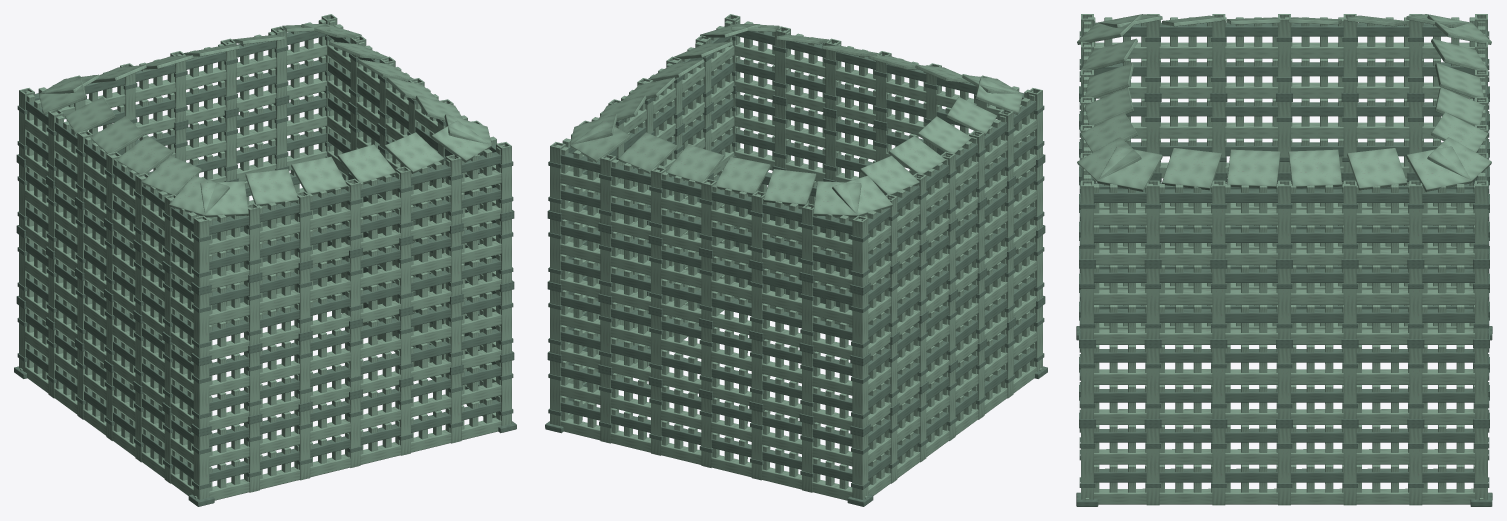
3 renders of one model, left to right at view 1: azimuth 30°, elevation 25°; view 2: azimuth 150°, elevation 25°; view 3: azimuth 270°, elevation 25°, orthographic. The views are drawn at different scales.
Visible parts, largest first — view 1: Crown alloy petal 0-1, Crown alloy petal 0-2, Crown alloy petal 0-3, Crown alloy petal 0-4, Crown alloy petal 3-4, Crown alloy petal 0-0, Crown alloy petal 3-3, Crown alloy petal 3-5, Crown alloy petal 0-5, Crown alloy petal 3-2, Crown alloy petal 3-1, Tier 3 side 0 post 0 (+36 smaller); view 2: Crown alloy petal 2-4, Crown alloy petal 2-3, Crown alloy petal 2-2, Crown alloy petal 2-1, Crown alloy petal 3-1, Crown alloy petal 2-5, Crown alloy petal 3-2, Crown alloy petal 3-0, Crown alloy petal 2-0, Crown alloy petal 3-3, Crown alloy petal 3-4, Tier 3 side 3 post 0 (+36 smaller); view 3: Crown alloy petal 1-4, Crown alloy petal 1-1, Crown alloy petal 1-2, Crown alloy petal 1-3, Crown alloy petal 1-5, Crown alloy petal 1-0, Crown alloy petal 0-5, Crown alloy petal 2-0, Crown alloy petal 2-1, Crown alloy petal 0-4, Crown alloy petal 2-2, Crown alloy petal 0-3 (+164 smaller).
Part boxes in pixels (x1=…): Crown alloy petal 0-1: x1=245, y1=169, x2=298, y2=205; Crown alloy petal 0-2: x1=291, y1=156, x2=347, y2=194; Crown alloy petal 0-3: x1=337, y1=144, x2=395, y2=183; Crown alloy petal 0-4: x1=384, y1=132, x2=443, y2=173; Crown alloy petal 3-4: x1=142, y1=155, x2=201, y2=195; Crown alloy petal 0-0: x1=200, y1=181, x2=248, y2=217; Crown alloy petal 3-3: x1=116, y1=136, x2=173, y2=174; Crown alloy petal 3-5: x1=169, y1=175, x2=229, y2=215; Crown alloy petal 0-5: x1=431, y1=120, x2=491, y2=162; Crown alloy petal 3-2: x1=90, y1=116, x2=144, y2=153; Crown alloy petal 3-1: x1=64, y1=97, x2=115, y2=135; Tier 3 side 0 post 0: x1=193, y1=215, x2=209, y2=286; Crown alloy petal 2-4: x1=763, y1=169, x2=816, y2=206; Crown alloy petal 2-3: x1=714, y1=156, x2=770, y2=195; Crown alloy petal 2-2: x1=666, y1=144, x2=724, y2=184; Crown alloy petal 2-1: x1=618, y1=132, x2=677, y2=173; Crown alloy petal 3-1: x1=860, y1=155, x2=919, y2=195; Crown alloy petal 2-5: x1=813, y1=181, x2=861, y2=217; Crown alloy petal 3-2: x1=888, y1=136, x2=945, y2=174; Crown alloy petal 3-0: x1=832, y1=175, x2=892, y2=215; Crown alloy petal 2-0: x1=570, y1=120, x2=630, y2=162; Crown alloy petal 3-3: x1=917, y1=116, x2=971, y2=153; Crown alloy petal 3-4: x1=946, y1=97, x2=997, y2=135; Tier 3 side 3 post 0: x1=852, y1=215, x2=868, y2=286; Crown alloy petal 1-4: x1=1347, y1=148, x2=1406, y2=190; Crown alloy petal 1-1: x1=1162, y1=148, x2=1221, y2=190; Crown alloy petal 1-2: x1=1227, y1=149, x2=1280, y2=188; Crown alloy petal 1-3: x1=1288, y1=149, x2=1342, y2=188; Crown alloy petal 1-5: x1=1406, y1=146, x2=1471, y2=191; Crown alloy petal 1-0: x1=1097, y1=146, x2=1162, y2=191; Crown alloy petal 0-5: x1=1077, y1=137, x2=1141, y2=182; Crown alloy petal 2-0: x1=1427, y1=137, x2=1491, y2=182; Crown alloy petal 2-1: x1=1431, y1=112, x2=1488, y2=152; Crown alloy petal 0-4: x1=1080, y1=112, x2=1137, y2=152; Crown alloy petal 2-2: x1=1435, y1=87, x2=1484, y2=126; Crown alloy petal 0-3: x1=1085, y1=87, x2=1133, y2=126.
Bounding box in the file's own units: 2.85 × 2.52 × 2.85.
Materials: 2 (2 with a texture image).
